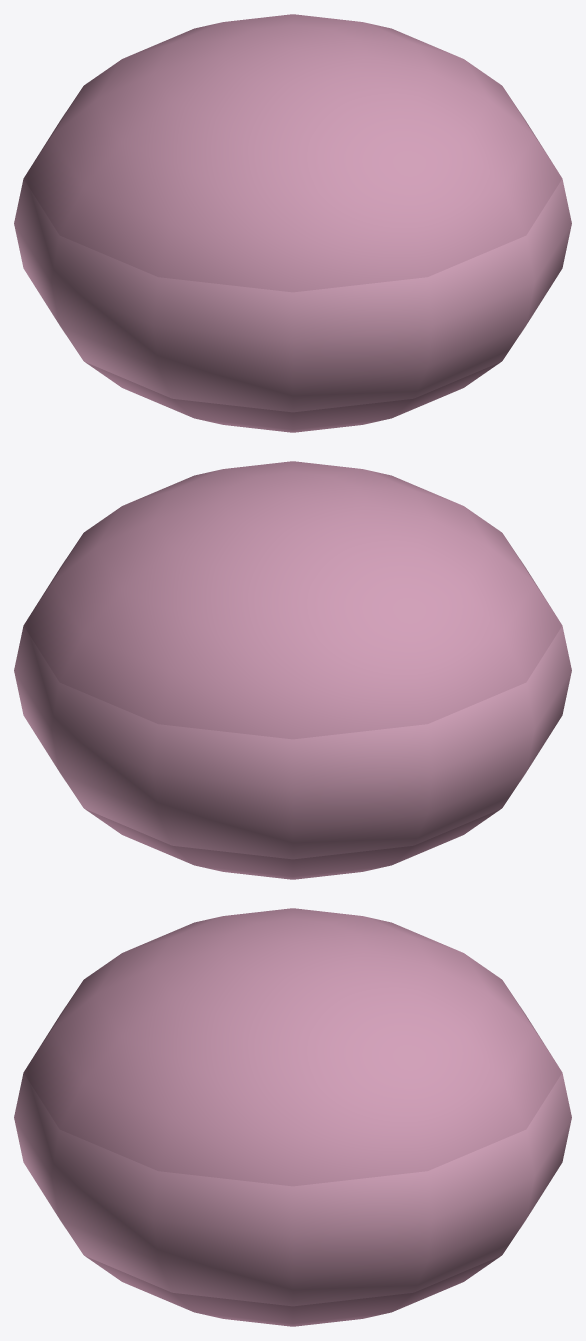
File: bush-71_col.fbx
3 views of the same model, one above another, from view 1: azimuth 30°, elevation 25°; view 2: azimuth 150°, elevation 25°; view 3: azimuth 270°, elevation 25° (orthographic).
Parts seen in each view (by area): view 1: bush-71.col; view 2: bush-71.col; view 3: bush-71.col.
Boxes of the visible parts, box(x1,y1,x2,y2) form: bush-71.col: box(14, 14, 571, 432); bush-71.col: box(14, 461, 571, 879); bush-71.col: box(14, 908, 571, 1326).
Size of the model in its own units: 0.0585 by 0.0401 by 0.0585.
Materials: 1 (1 with a texture image).
